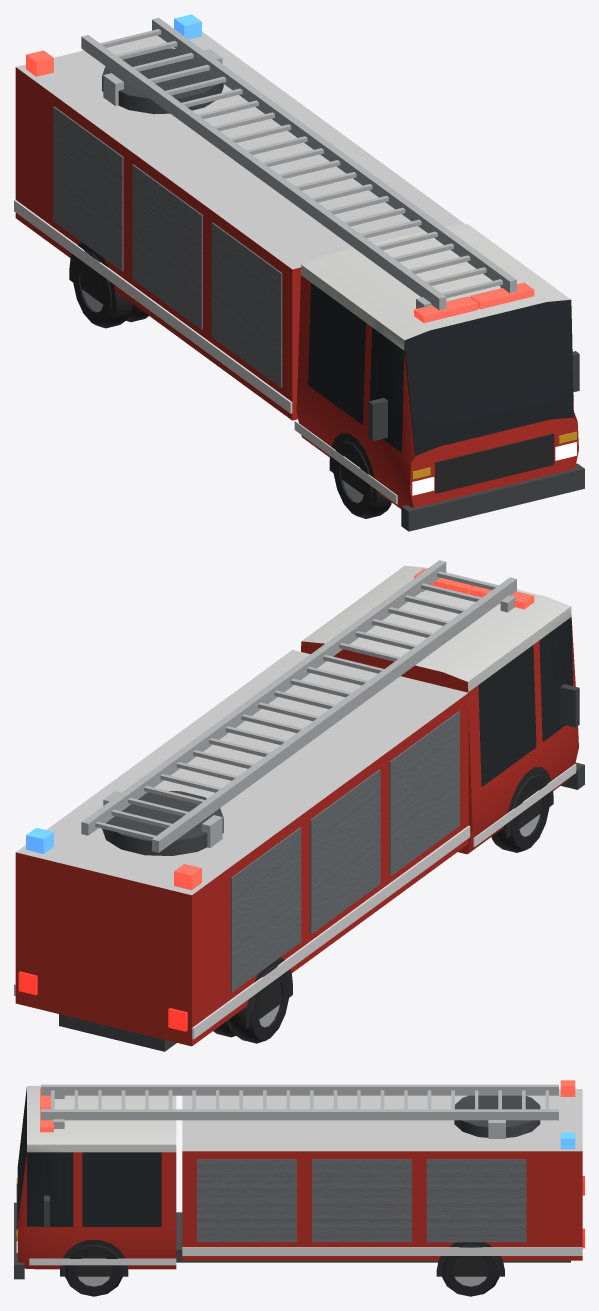
Rendered from firetruck.glb.
The picture shows the model from 3 angles, top to bottom: view 1: azimuth 30°, elevation 25°; view 2: azimuth 150°, elevation 25°; view 3: azimuth 270°, elevation 25°; orthographic projection. The views are drawn at different scales.
Parts seen in each view (by area): view 1: firetruck, Siren_0, Siren_1; view 2: firetruck; view 3: firetruck.
Part boxes in pixels (x1,y1,x2,y2): firetruck: (14, 17, 584, 531); Siren_0: (414, 296, 477, 322); Siren_1: (470, 282, 534, 309); firetruck: (14, 560, 584, 1051); firetruck: (14, 1084, 584, 1296).
Size of the model in its own units: 0.1764 by 0.1896 by 0.582.
16 materials, 1 textured.
